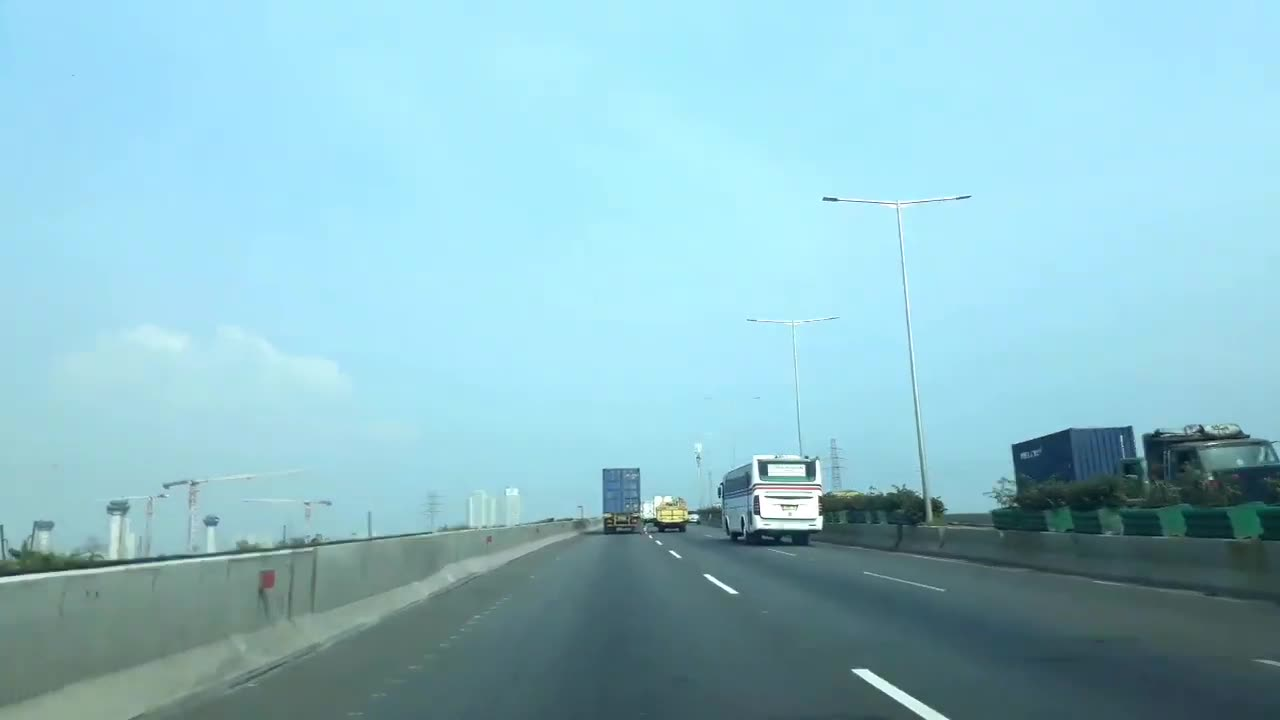plate_positive: (782, 505, 796, 510), (617, 516, 627, 520)
